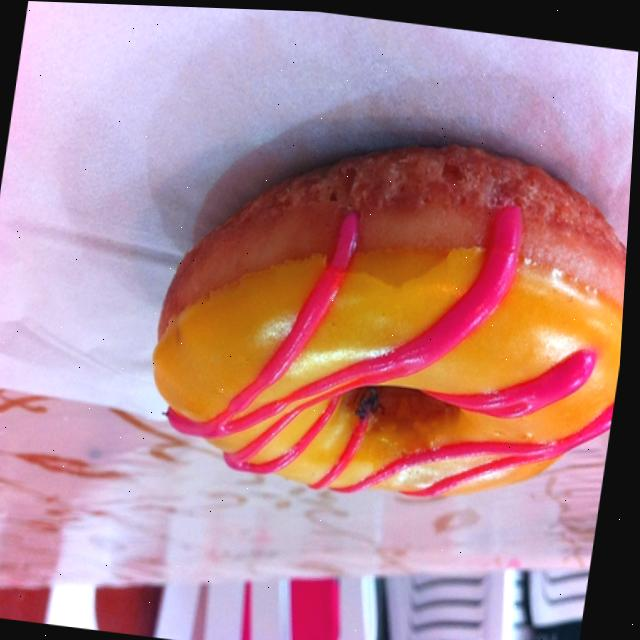炸货点心: (33, 57, 637, 609)
